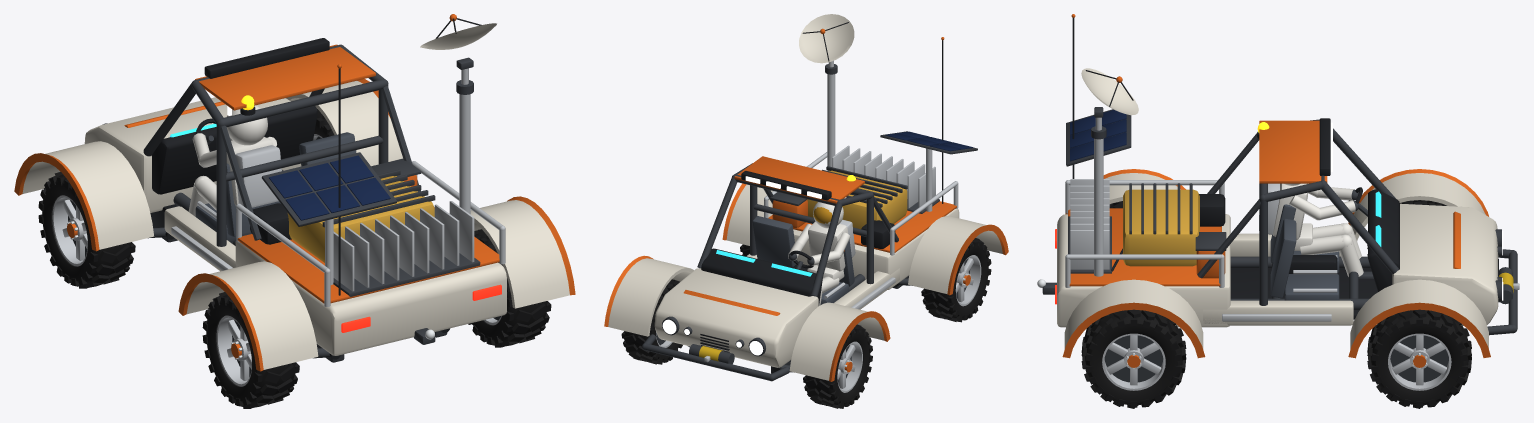
Rendered from rover.glb.
3 views of the same model, side by side, from view 1: azimuth 30°, elevation 25°; view 2: azimuth 150°, elevation 25°; view 3: azimuth 270°, elevation 25° (orthographic). The views are drawn at different scales.
Visible parts, largest first — view 1: Chassis, Wheel_FL, Wheel_RL, Driver, Wheel_RR, Dish; view 2: Chassis, Wheel_FL, Wheel_RL, Driver, Dish, Wheel_FR; view 3: Chassis, Wheel_FR, Wheel_RR, Driver, Dish.
Part boxes in pixels (x1,y1,x2,y2): Chassis: [14, 38, 575, 371]; Wheel_FL: [38, 172, 135, 288]; Wheel_RL: [202, 292, 299, 408]; Driver: [188, 105, 281, 216]; Wheel_RR: [468, 229, 551, 347]; Dish: [420, 14, 496, 84]; Chassis: [604, 37, 1008, 381]; Wheel_FL: [803, 324, 872, 408]; Wheel_RL: [921, 238, 991, 322]; Driver: [788, 197, 855, 305]; Dish: [799, 14, 854, 67]; Wheel_FR: [621, 279, 682, 364]; Chassis: [1037, 14, 1519, 358]; Wheel_FR: [1367, 309, 1471, 408]; Wheel_RR: [1081, 309, 1186, 408]; Driver: [1259, 183, 1373, 278]; Dish: [1081, 68, 1138, 130].
Size of the model in its own units: 2.88 by 3.05 by 4.39.
